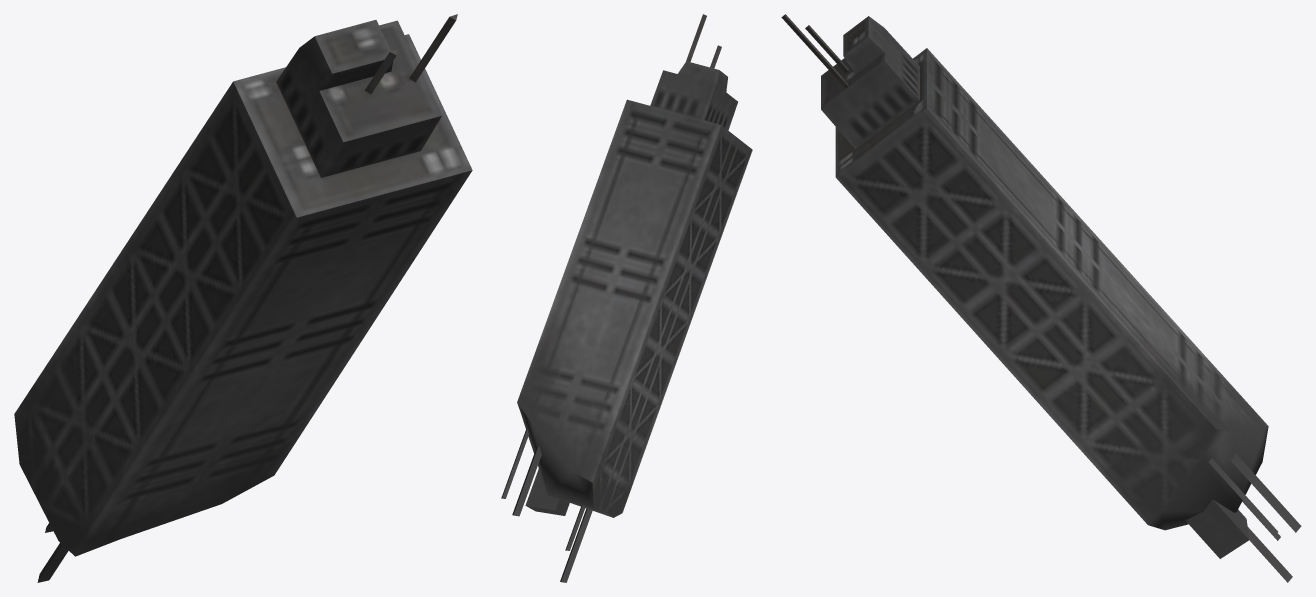
The model's file is skyBuildingAAA_pos_grp (1).fbx.
3 renders of one model, left to right at view 1: azimuth 30°, elevation 25°; view 2: azimuth 150°, elevation 25°; view 3: azimuth 270°, elevation 25°, orthographic. The views are drawn at different scales.
Parts seen in each view (by area): view 1: skyBuildingAAA_geo; view 2: skyBuildingAAA_geo; view 3: skyBuildingAAA_geo.
Part boxes in pixels (<box>): skyBuildingAAA_geo: <box>14,14,472,582</box>; skyBuildingAAA_geo: <box>501,14,752,582</box>; skyBuildingAAA_geo: <box>781,14,1301,582</box>.
Bounding box in the file's own units: 2.92 × 11.73 × 9.33.
